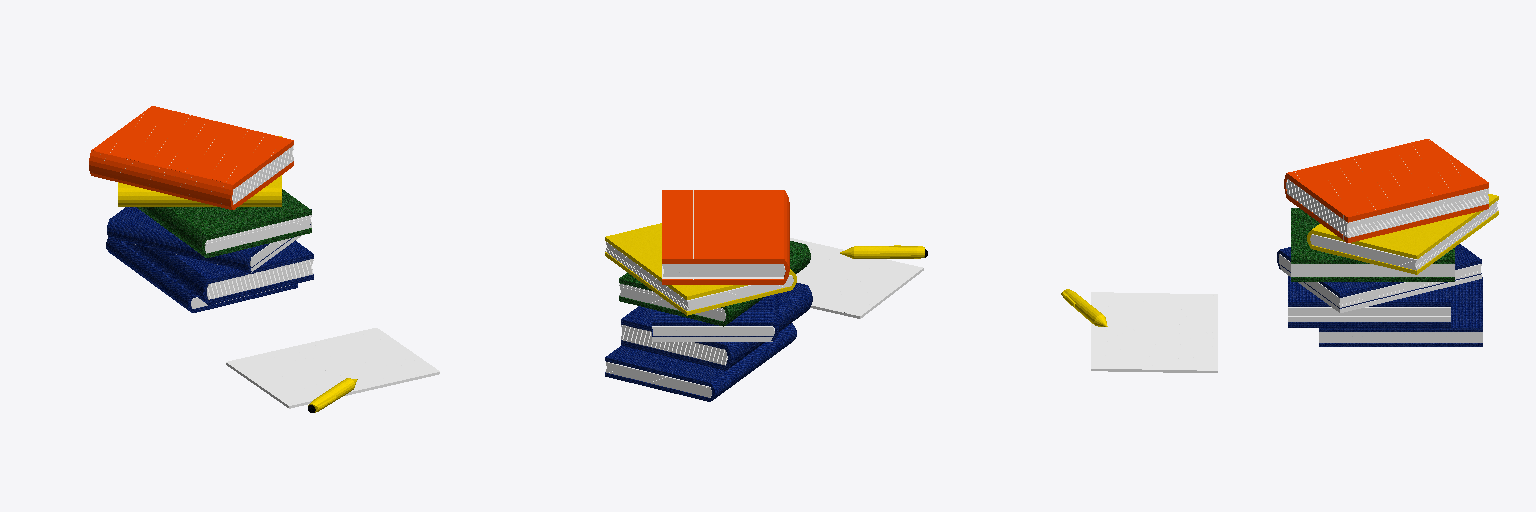
The picture shows the model from 3 angles: view 1: azimuth 30°, elevation 25°; view 2: azimuth 150°, elevation 25°; view 3: azimuth 270°, elevation 25°; orthographic projection.
Visible parts, largest first — view 1: polySurface840; view 2: polySurface840; view 3: polySurface840.
Boxes of the visible parts, <box> form: polySurface840: <box>89,106,439,412</box>; polySurface840: <box>605,190,927,401</box>; polySurface840: <box>1061,139,1498,372</box>.
Size of the model in its own units: 0.9222 by 0.6859 by 1.85.
Materials: 8 (6 with a texture image).